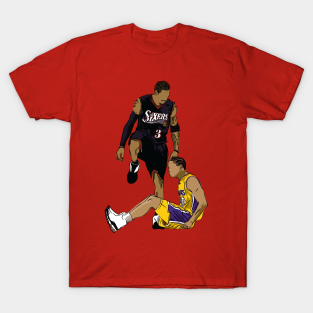design: (103, 78, 210, 234)
